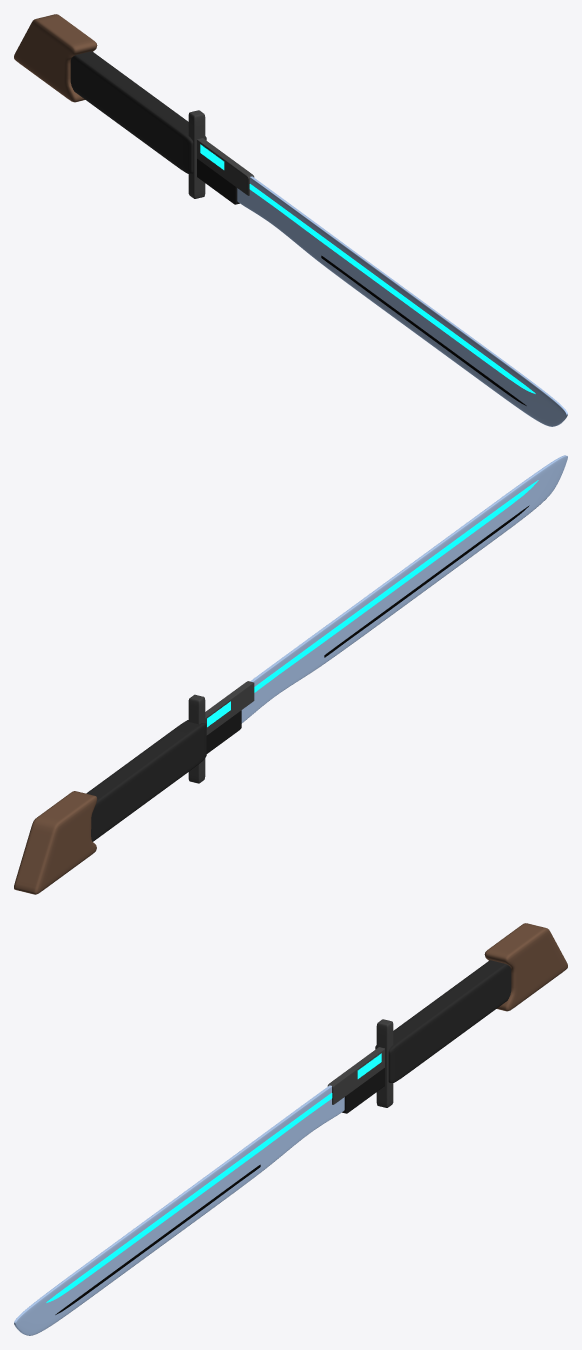
Rendered from sword.fbx.
The picture shows the model from 3 angles, top to bottom: view 1: azimuth 30°, elevation 25°; view 2: azimuth 150°, elevation 25°; view 3: azimuth 330°, elevation 25°; orthographic projection.
Visible parts, largest first — view 1: Cube.005, Cube, Cube.001, Cube.007, Cube.003, Cube.002, Cube.004, Cube.008; view 2: Cube.005, Cube, Cube.001, Cube.007, Cube.003, Cube.002, Cube.008, Cube.004; view 3: Cube.005, Cube, Cube.001, Cube.007, Cube.003, Cube.002, Cube.004, Cube.008.
Part boxes in pixels (left/top/right/bottom): Cube.005: left=237, top=176, right=567, bottom=426; Cube: left=70, top=51, right=206, bottom=173; Cube.001: left=14, top=14, right=97, bottom=102; Cube.007: left=249, top=184, right=535, bottom=393; Cube.003: left=197, top=138, right=254, bottom=195; Cube.002: left=188, top=110, right=205, bottom=198; Cube.004: left=197, top=159, right=239, bottom=204; Cube.008: left=321, top=255, right=526, bottom=405; Cube.005: left=241, top=455, right=567, bottom=723; Cube: left=86, top=720, right=206, bottom=841; Cube.001: left=14, top=791, right=97, bottom=894; Cube.007: left=254, top=480, right=538, bottom=692; Cube.003: left=205, top=681, right=254, bottom=735; Cube.002: left=188, top=694, right=205, bottom=783; Cube.008: left=324, top=505, right=529, bottom=657; Cube.004: left=206, top=710, right=241, bottom=753; Cube.005: left=14, top=1085, right=344, bottom=1335; Cube: left=375, top=960, right=511, bottom=1082; Cube.001: left=484, top=923, right=567, bottom=1011; Cube.007: left=46, top=1093, right=332, bottom=1302; Cube.003: left=327, top=1047, right=384, bottom=1104; Cube.002: left=376, top=1019, right=393, bottom=1107; Cube.004: left=342, top=1068, right=384, bottom=1113; Cube.008: left=55, top=1164, right=260, bottom=1314.
Size of the model in its own units: 138 by 442 by 5219.
